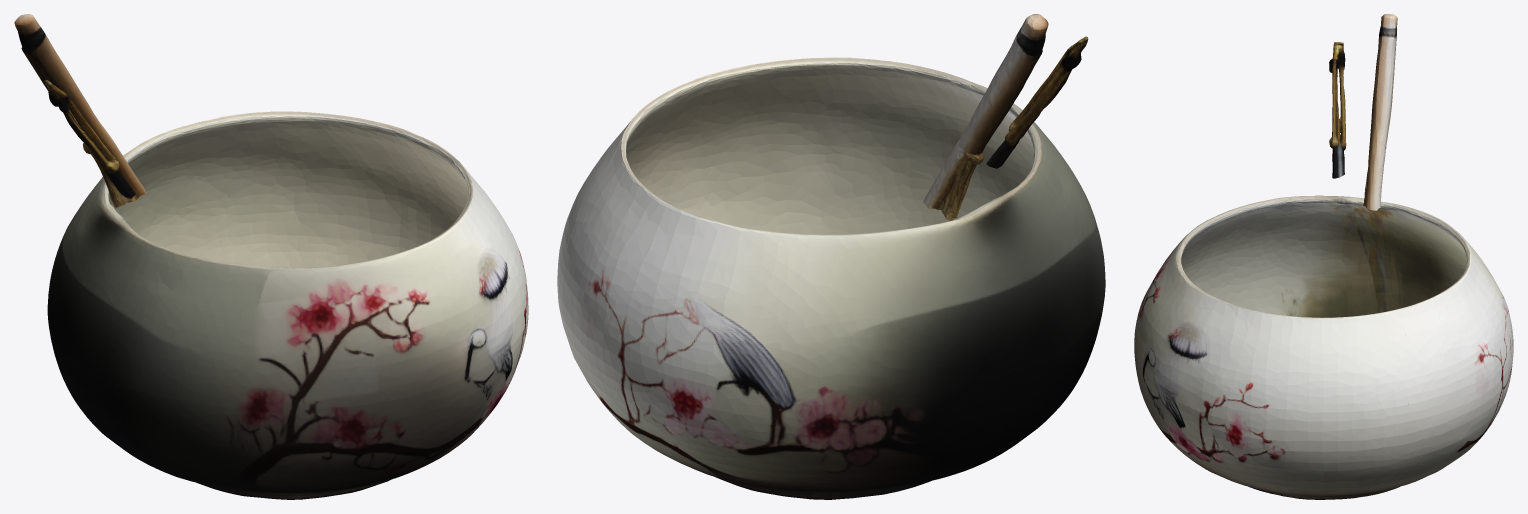
File: porcelain-pen-holder-japanese.jpeg.glb
3 renders of one model, left to right at view 1: azimuth 30°, elevation 25°; view 2: azimuth 150°, elevation 25°; view 3: azimuth 270°, elevation 25°, orthographic. The views are drawn at different scales.
Visible parts, largest first — view 1: world; view 2: world; view 3: world.
Boxes of the visible parts, box(x1,y1,x2,y2) form: world: box(14, 14, 528, 499); world: box(557, 14, 1105, 499); world: box(1134, 14, 1513, 499).
Bounding box in the file's own units: 0.9973 × 0.9744 × 0.9408.
1 material, 1 textured.
